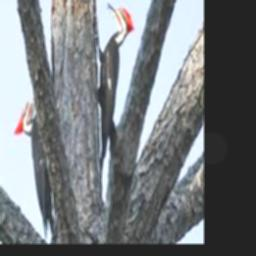Woodpecker: (94, 3, 133, 171), (14, 85, 54, 237)
